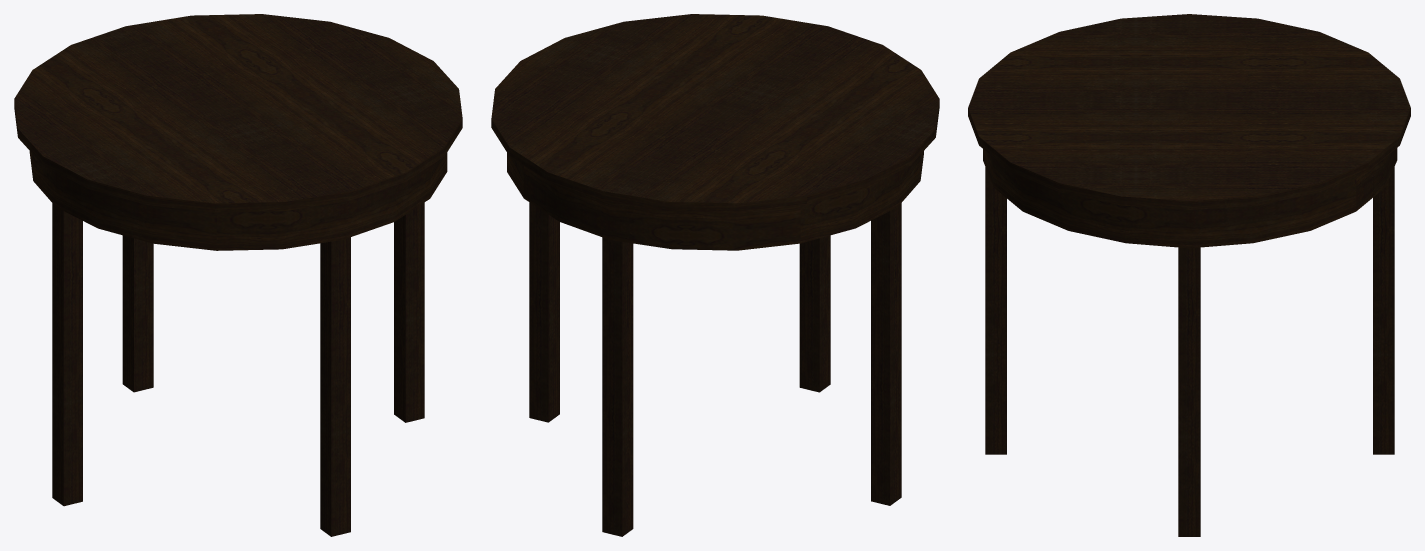
Rendered from CircleTable.fbx.
3 renders of one model, left to right at view 1: azimuth 30°, elevation 25°; view 2: azimuth 150°, elevation 25°; view 3: azimuth 270°, elevation 25°, orthographic.
Visible parts, largest first — view 1: polySurface1; view 2: polySurface1; view 3: polySurface1.
Boxes of the visible parts, x1,y1,x2,y2 form: polySurface1: (14, 14, 462, 536); polySurface1: (491, 14, 939, 536); polySurface1: (968, 14, 1410, 536).
Size of the model in its own units: 2.15 by 1.84 by 2.15.
Materials: 1 (1 with a texture image).
